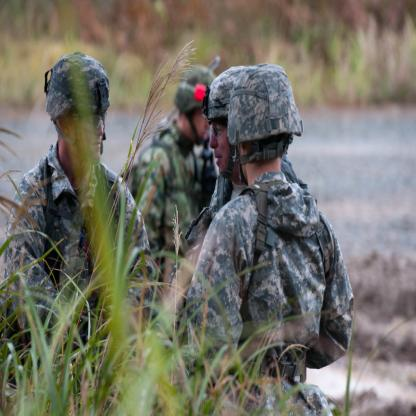Helmet: (209, 63, 300, 186), (44, 50, 116, 127), (167, 66, 220, 147), (200, 68, 248, 111)
